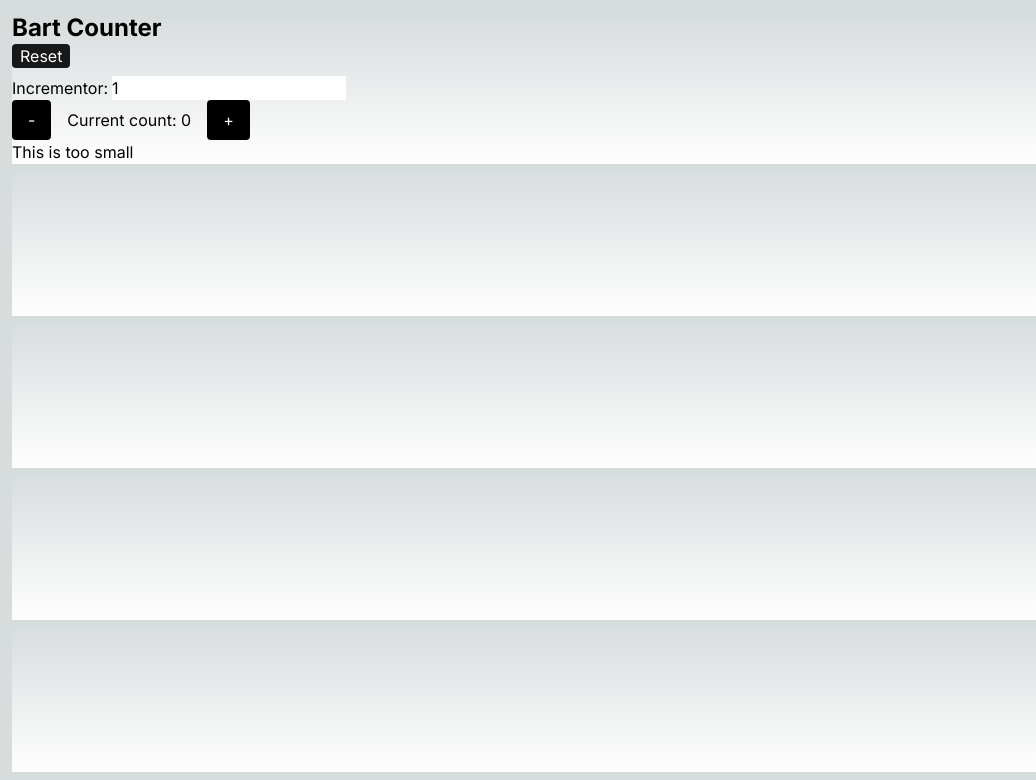
Test: Counter Component › defaultConter = 0 and description is 'Bart Counter' › When the - is clicked › it renders: default counter = 0 and Current count: -1
What coordinates should you click on to do the following:
click the button named "decrement"
I would click on:
 (32, 120)
Its box is [12, 100, 51, 140].
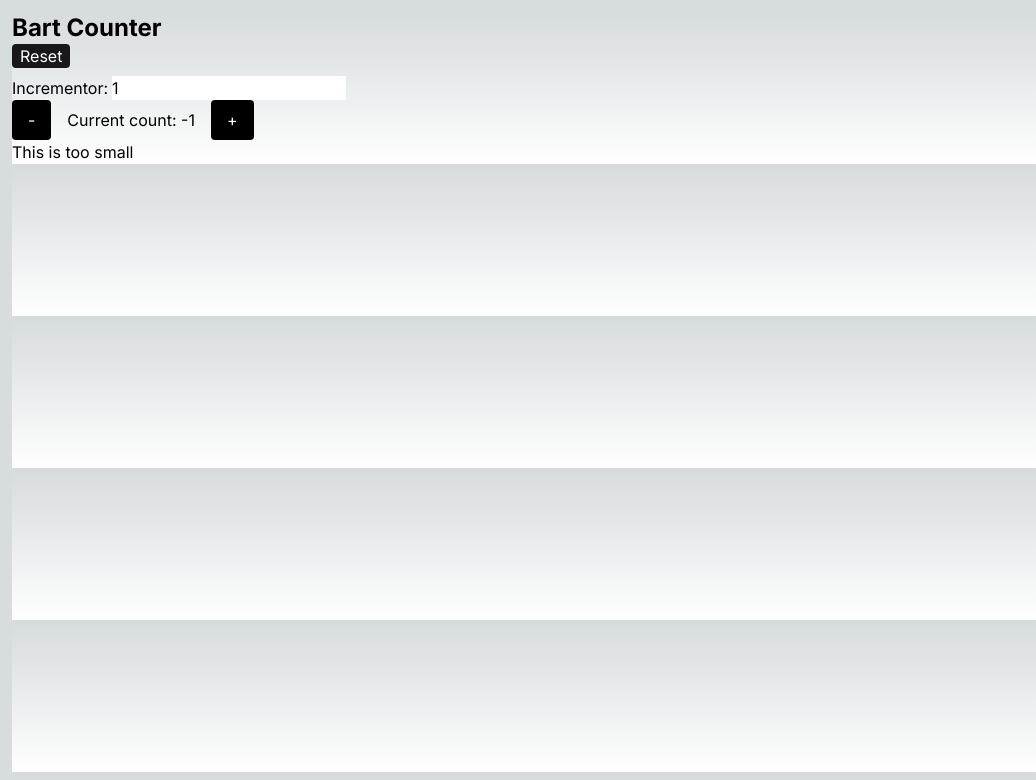
Expected: the text "Current count: -1" is shown, [67, 108, 195, 132]
